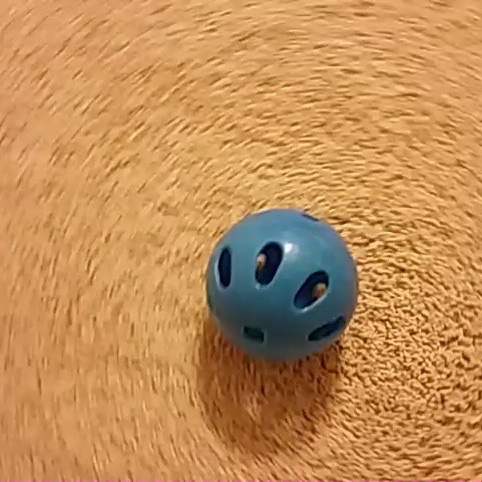ball: (200, 204, 362, 364)
